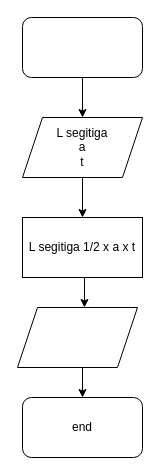
The diagram is 160 pixels wide and 475 high, and some of its shapes have lost their labels. The shapes that lost their labels are listed below. From the top down, each one's centre as x and y in pixels, then its label:
At point (82, 47): "star".
At point (77, 337): "L segi tigas".
